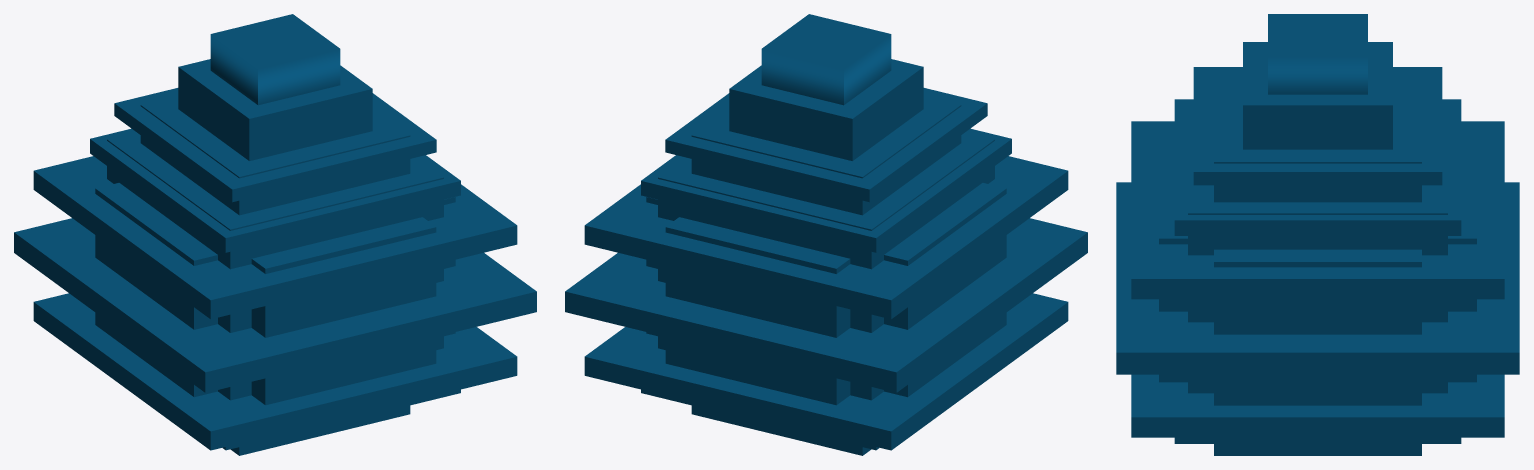
File: 63.Tralaledon.fbx
3 views of the same model, side by side, from view 1: azimuth 30°, elevation 25°; view 2: azimuth 150°, elevation 25°; view 3: azimuth 270°, elevation 25° (orthographic). The views are drawn at different scales.
Parts seen in each view (by area): view 1: Tralaledon; view 2: Tralaledon; view 3: Tralaledon.
Boxes of the visible parts, x1,y1,x2,y2 form: Tralaledon: (14, 14, 536, 455); Tralaledon: (565, 14, 1087, 455); Tralaledon: (1116, 14, 1519, 455).
Size of the model in its own units: 3.66 by 3.77 by 3.66.
